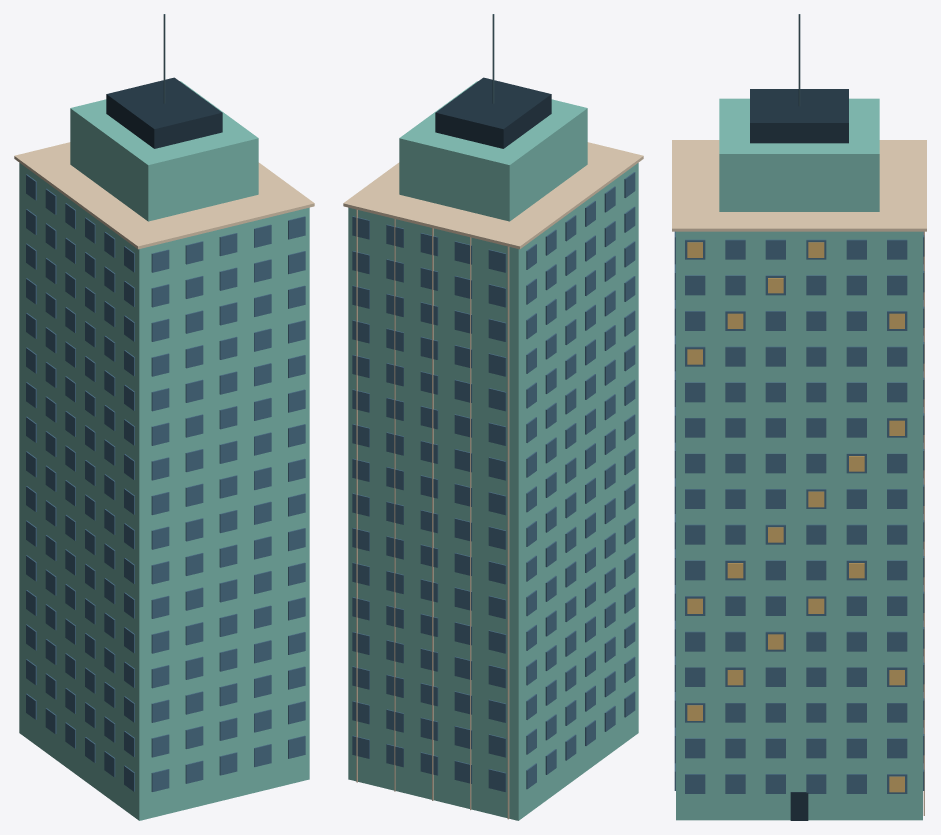
File: building-tower.obj
3 renders of one model, left to right at view 1: azimuth 30°, elevation 25°; view 2: azimuth 150°, elevation 25°; view 3: azimuth 270°, elevation 25°, orthographic. The views are drawn at different scales.
Parts seen in each view (by area): view 1: building-tower; view 2: building-tower; view 3: building-tower.
Part boxes in pixels (bbox=[...]): building-tower: bbox=[14, 14, 314, 820]; building-tower: bbox=[343, 14, 643, 820]; building-tower: bbox=[672, 14, 926, 820].
Bounding box in the file's own units: 18.7 × 75 × 22.7.
